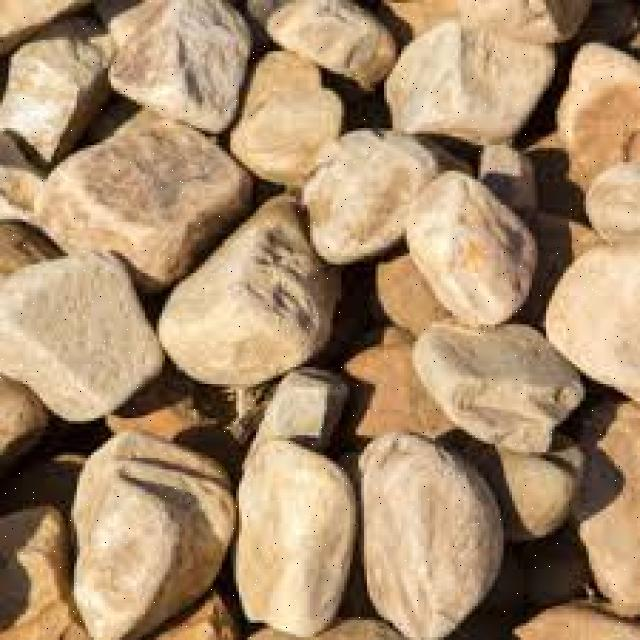Metamorphic: (3, 3, 637, 634)
